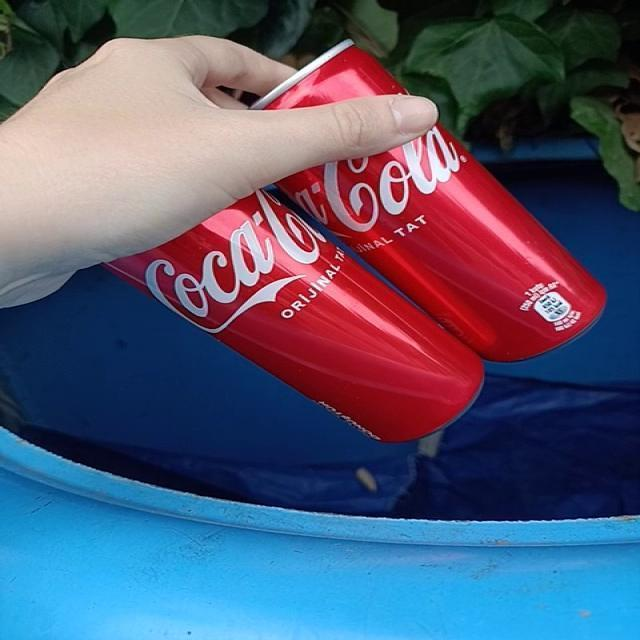bottles: (246, 37, 607, 363)
